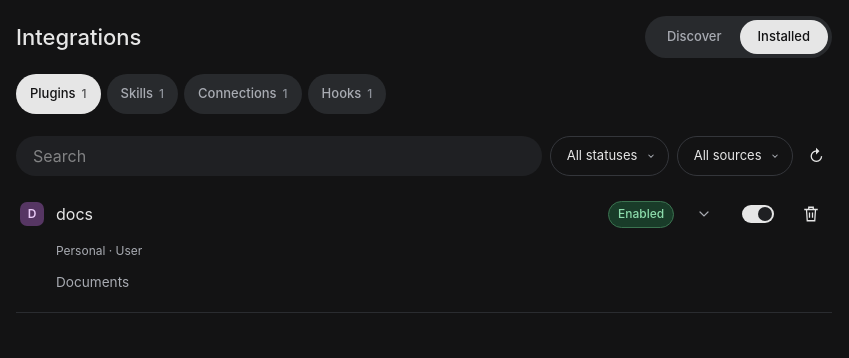
Integration browsing and lifecycle › keeps Installed and Discover search and filters independent
Expected: the button with aria-label "View docs" is shown, [56,194,596,234]
Type "docs" into the search field at (279, 156), box [16,136,542,176]
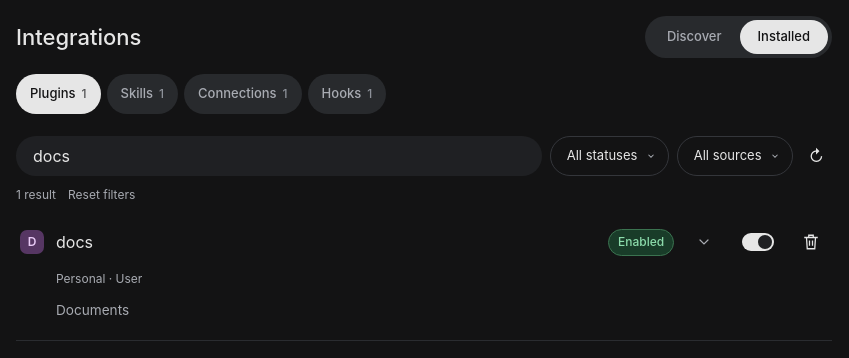
Select "Personal" in the dropdown named "Source" at (735, 156), box [677,136,793,176]
Select "Enabled" in the dropdown named "Status" at (609, 156), box [550,136,669,176]
Click the button "Discover" at (694, 37), box [649,20,740,54]
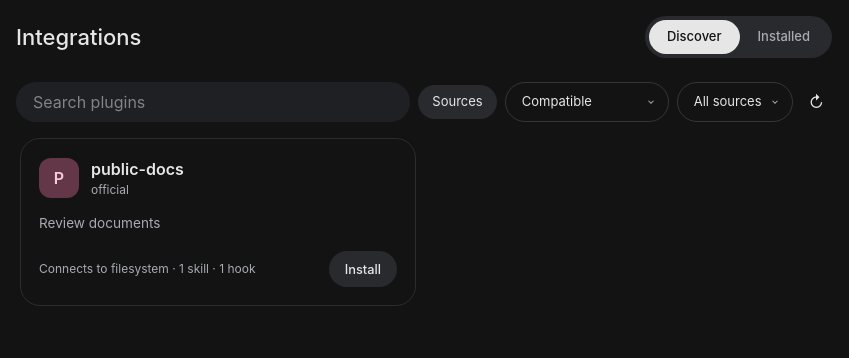
Expected: the search field is empty
Type "missing" into the search field at (213, 102), box [16,82,410,122]
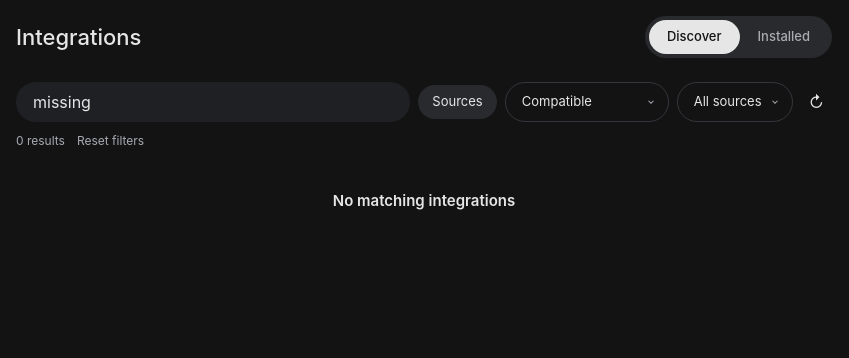
Click the button "Installed" at (784, 37), box [740,20,828,54]
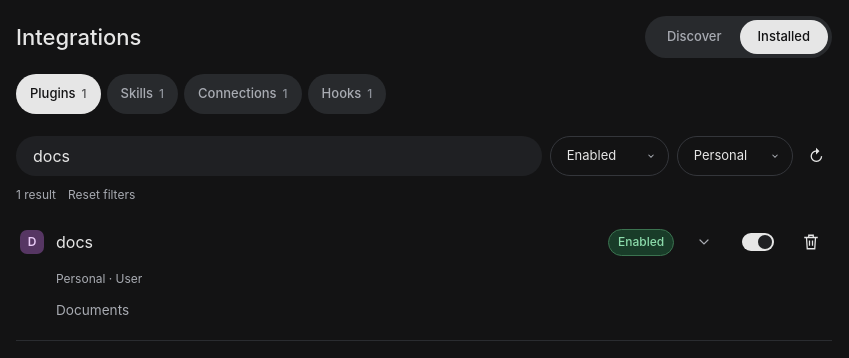
Click the button "Discover" at (694, 37), box [649,20,740,54]
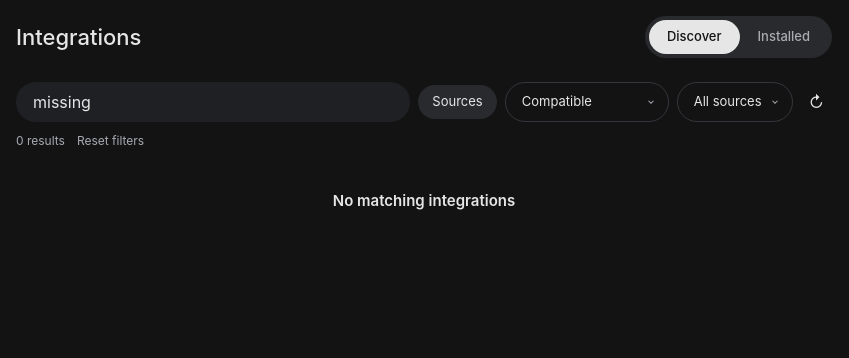
Click the button "Reset filters" at (111, 141), box [77,130,144,152]
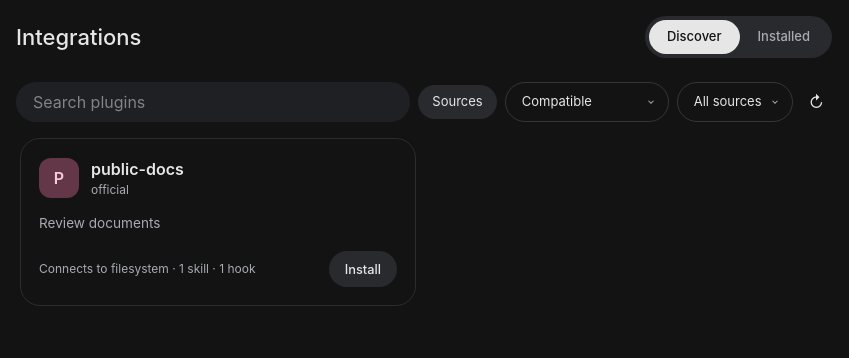
Expected: the button with aria-label "View public-docs" is shown, [91,157,184,181]
